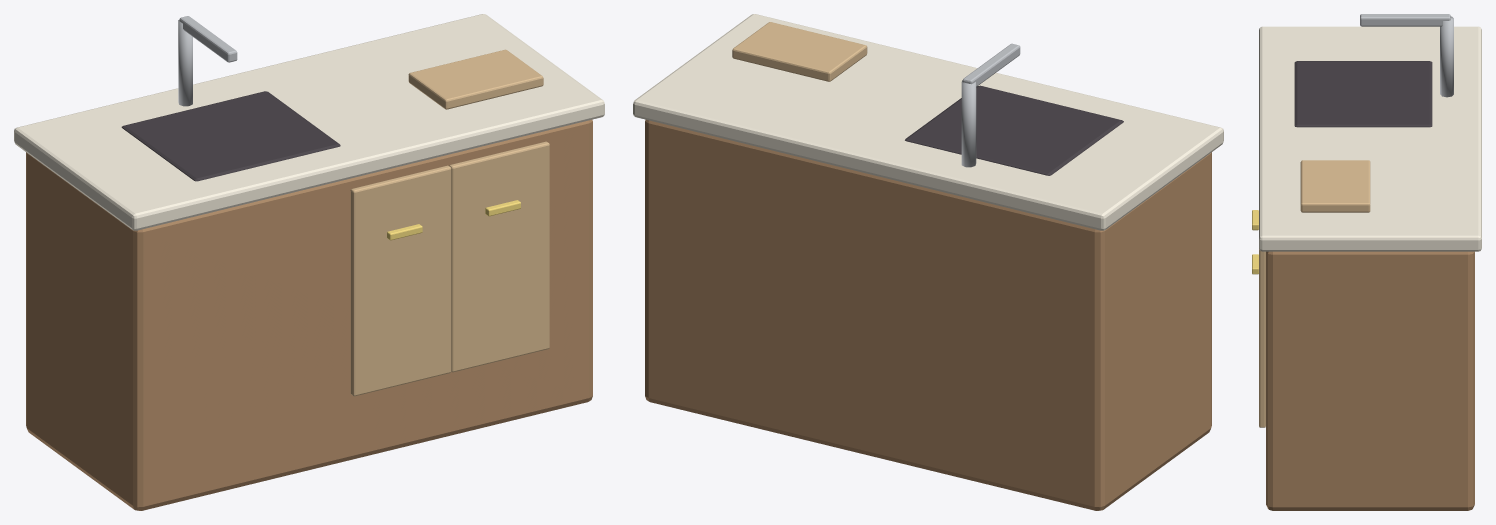
Rendered from CounterSink.fbx.
3 renders of one model, left to right at view 1: azimuth 30°, elevation 25°; view 2: azimuth 150°, elevation 25°; view 3: azimuth 270°, elevation 25°, orthographic. The views are drawn at different scales.
Parts seen in each view (by area): view 1: CounterSink; view 2: CounterSink; view 3: CounterSink.
Part boxes in pixels (<box>): CounterSink: <box>14,14,604,510</box>; CounterSink: <box>633,14,1223,510</box>; CounterSink: <box>1252,14,1481,510</box>.
Bounding box in the file's own units: 144 × 114 × 66.
